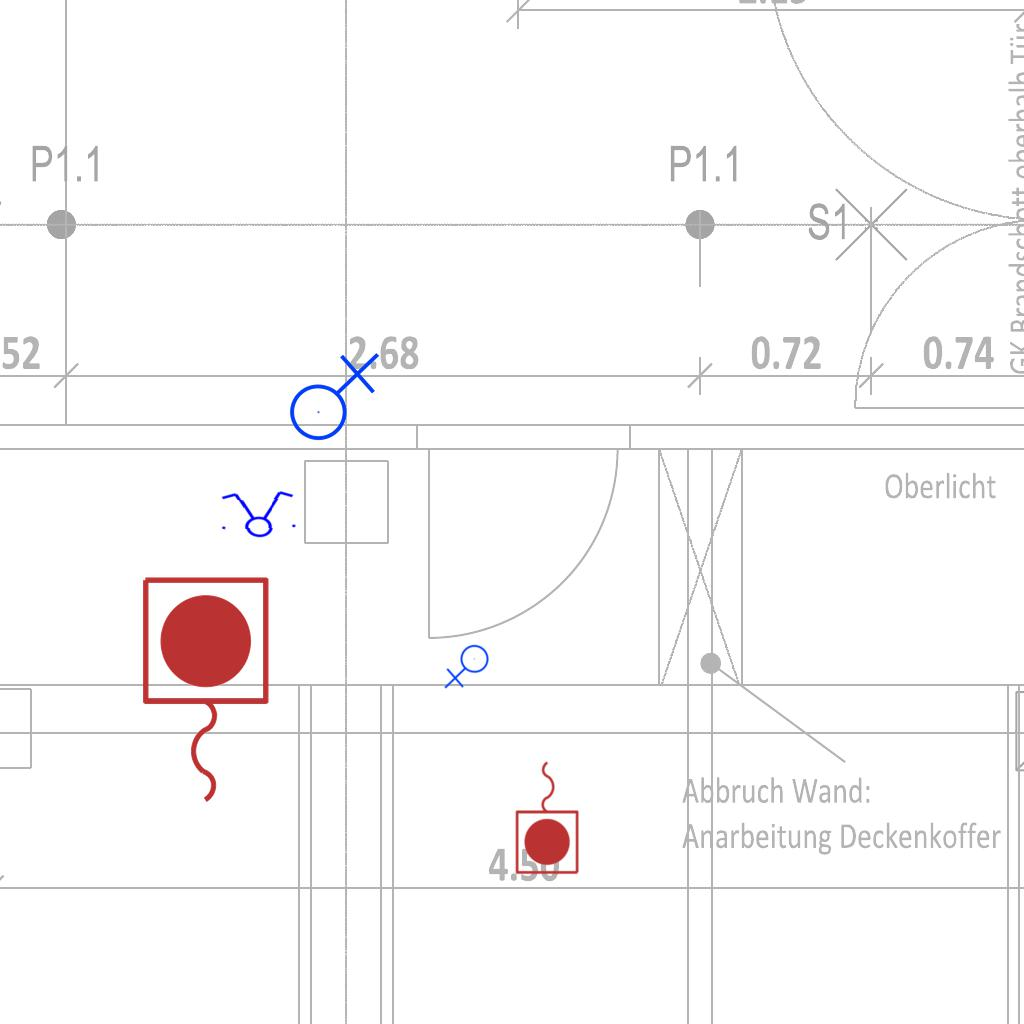Elektroanschluss_allgemein_230V_Geraeteanschlussdose_230V: (281, 348, 380, 442), (444, 644, 493, 691)
Serienschalter: (215, 488, 301, 540)
Zugtaster: (132, 569, 276, 813), (512, 756, 584, 878)
